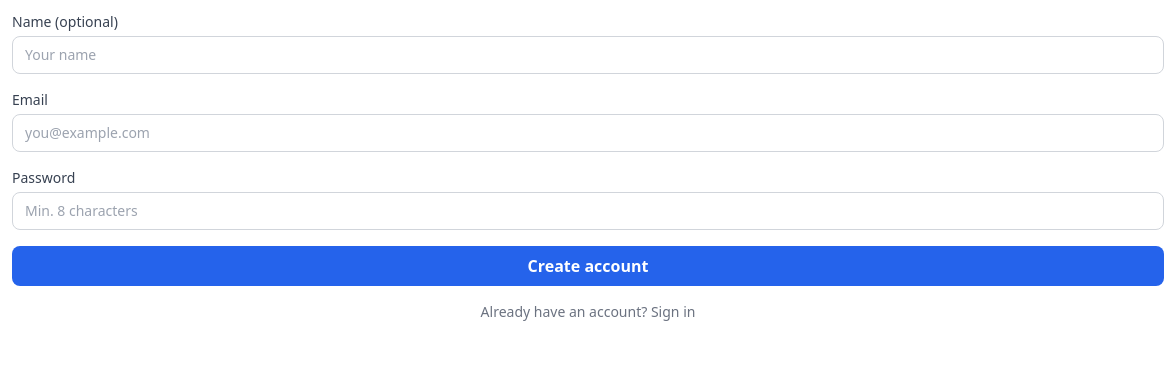
AuthForm › signup mode › shows error from API response
The width and height of the screenshot is (1176, 374).
Step 1. Type "test@test.com" into the field with placeholder "you@example.com" → (588, 133), box top-left (12, 114), bottom-right (1164, 152)
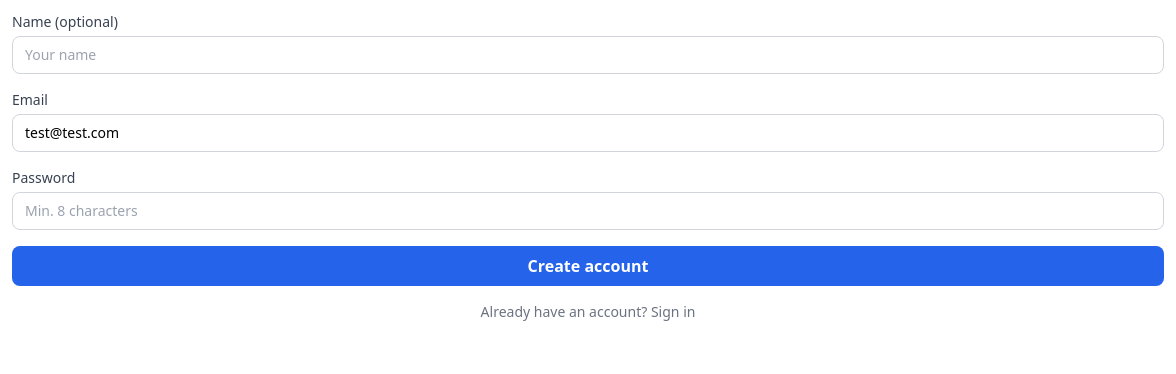
Step 2. Type "password123" into the password field with placeholder "Min. 8 characters" → (588, 211), box top-left (12, 192), bottom-right (1164, 230)
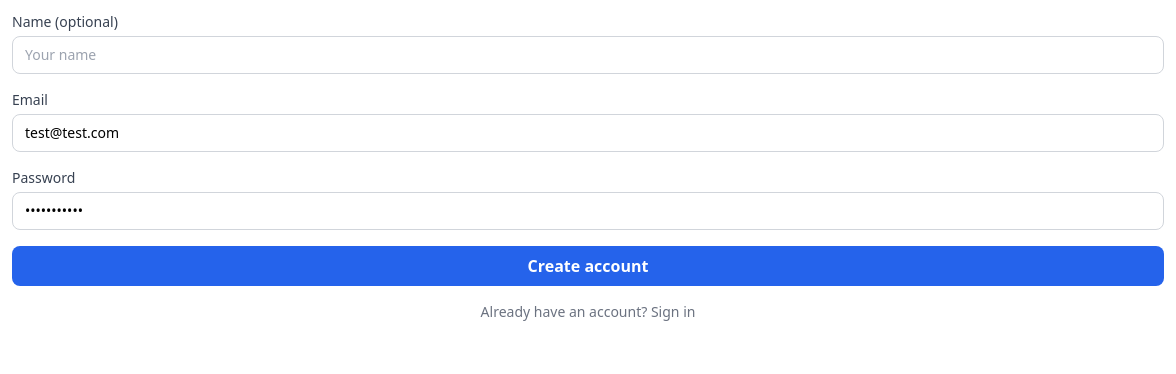
Step 3. Submit the form from the button "Create account", box top-left (12, 246), bottom-right (1164, 286)
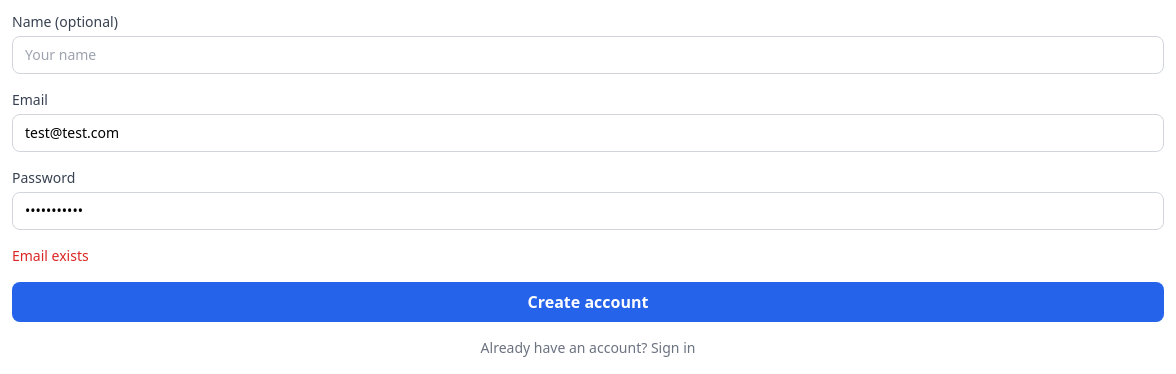
Expected: the text "Email exists" is shown, top-left (12, 246), bottom-right (89, 265)
